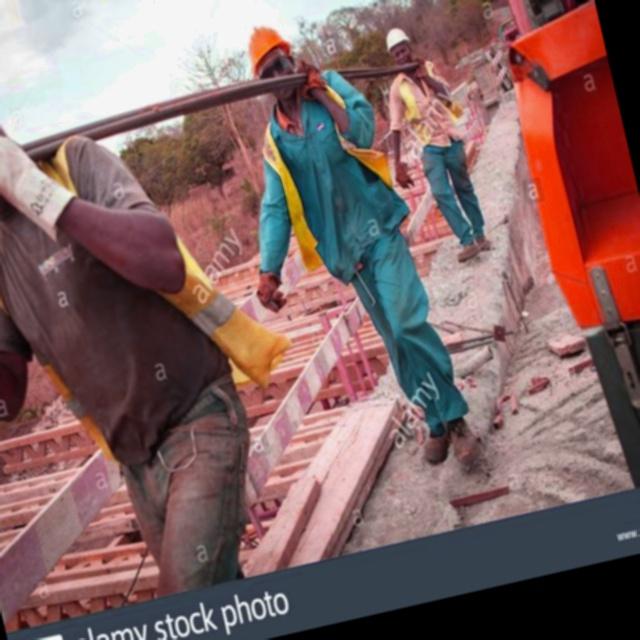Con_Casco: (240, 19, 300, 97), (383, 23, 418, 67)
Con_Chaleco: (252, 78, 405, 259)
